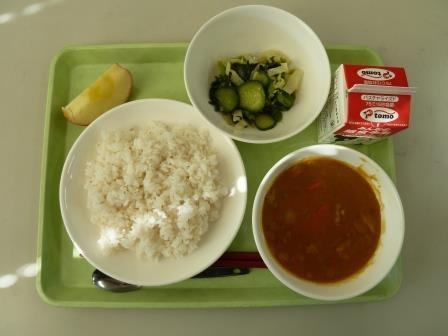Apple: (58, 57, 146, 126)
Curry: (246, 151, 397, 296)
Milk: (326, 55, 423, 146)
Rice: (81, 120, 221, 260)
Salad: (189, 25, 315, 135)
